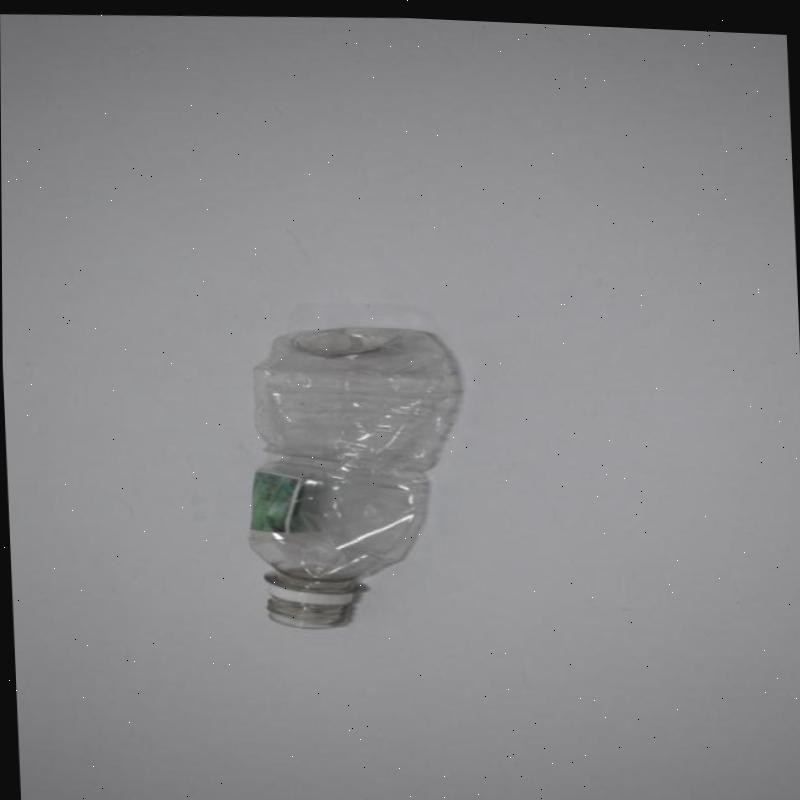botella: (237, 316, 468, 637)
